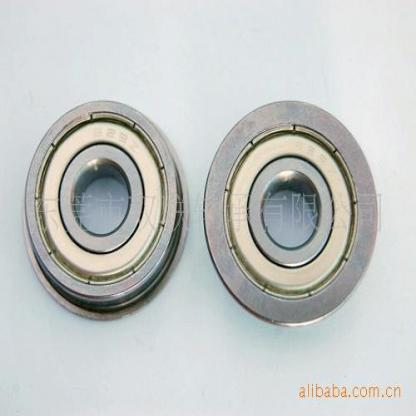FOD: (202, 94, 379, 328), (18, 98, 188, 324)
